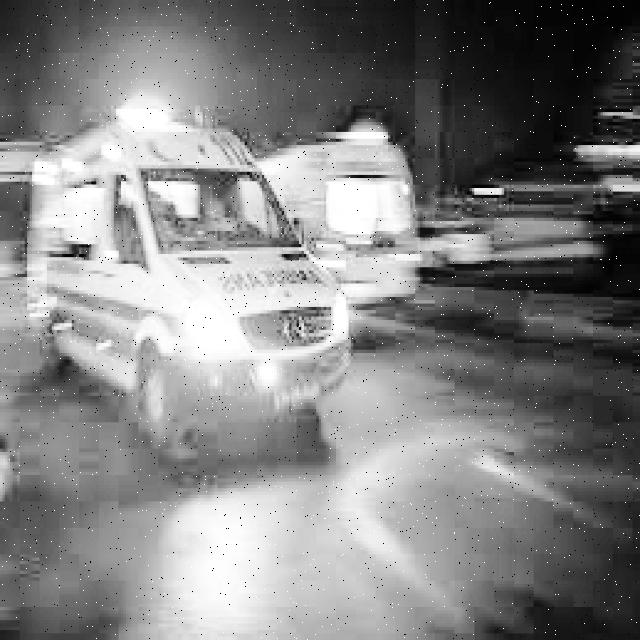Ambulance: (27, 109, 351, 462)
